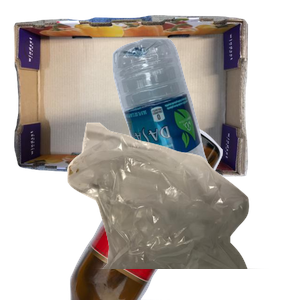cardboard: (11, 13, 251, 182)
glass: (67, 120, 282, 300)
plastic: (110, 36, 300, 216)
trash: (65, 120, 300, 300)
